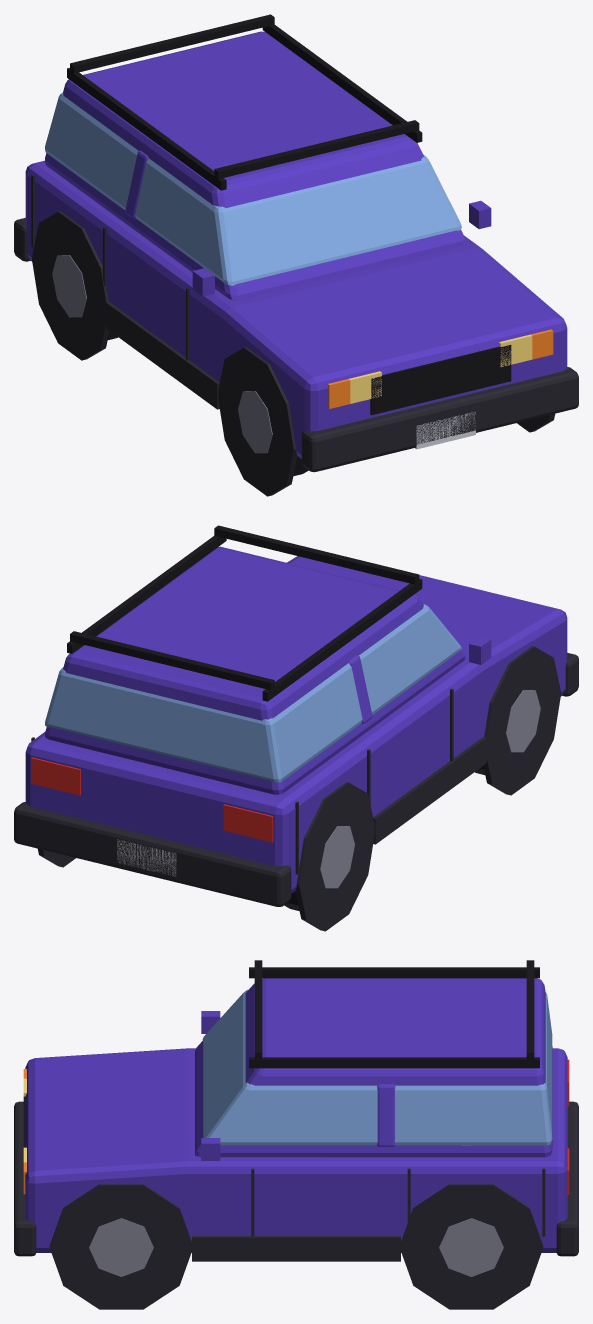
File: wagon.glb
The picture shows the model from 3 angles, top to bottom: view 1: azimuth 30°, elevation 25°; view 2: azimuth 150°, elevation 25°; view 3: azimuth 270°, elevation 25°; orthographic projection. The views are drawn at different scales.
Visible parts, largest first — view 1: Wagon; view 2: Wagon; view 3: Wagon.
Boxes of the visible parts, x1=… form: Wagon: x1=14, y1=14, x2=578, y2=496; Wagon: x1=14, y1=525, x2=578, y2=931; Wagon: x1=14, y1=960, x2=578, y2=1309.
Bounding box in the file's own units: 1.65 × 1.4 × 2.97.
Materials: 1 (1 with a texture image).
